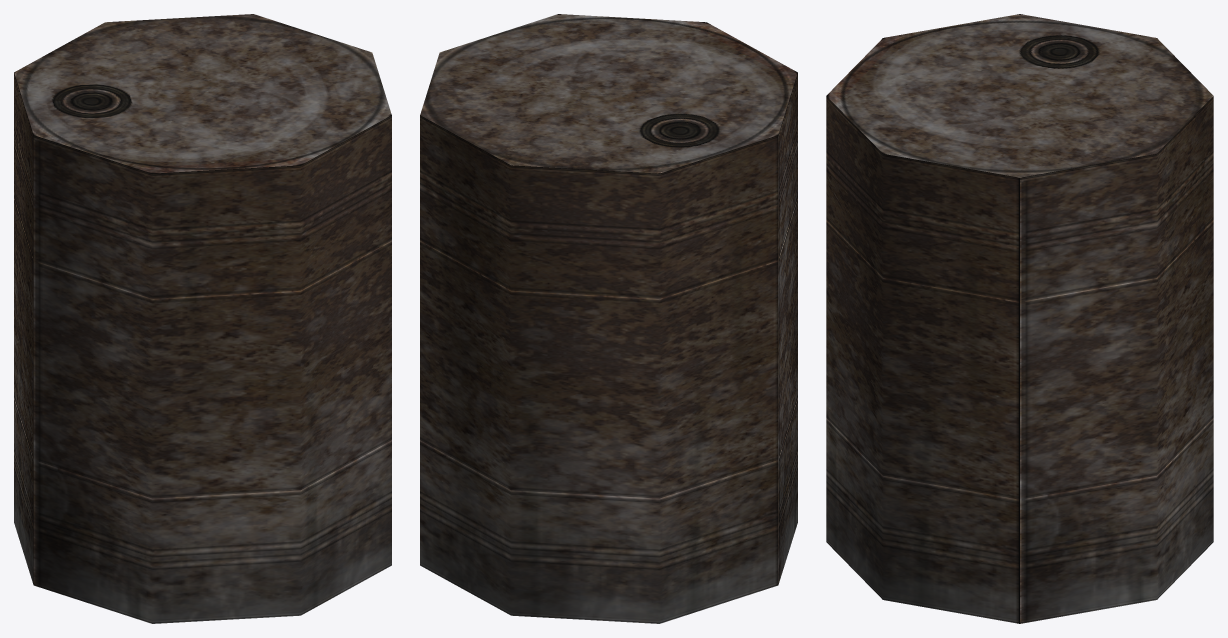
Rendered from OilBarrel_LOD1.FBX.
3 views of the same model, side by side, from view 1: azimuth 30°, elevation 25°; view 2: azimuth 150°, elevation 25°; view 3: azimuth 270°, elevation 25° (orthographic).
Parts seen in each view (by area): view 1: LOD1; view 2: LOD1; view 3: LOD1.
Part boxes in pixels (x1=…): LOD1: x1=14, y1=14, x2=391, y2=623; LOD1: x1=420, y1=14, x2=797, y2=623; LOD1: x1=826, y1=14, x2=1213, y2=623.
Size of the model in its own units: 76 by 96.56 by 76.
1 material, 1 textured.
